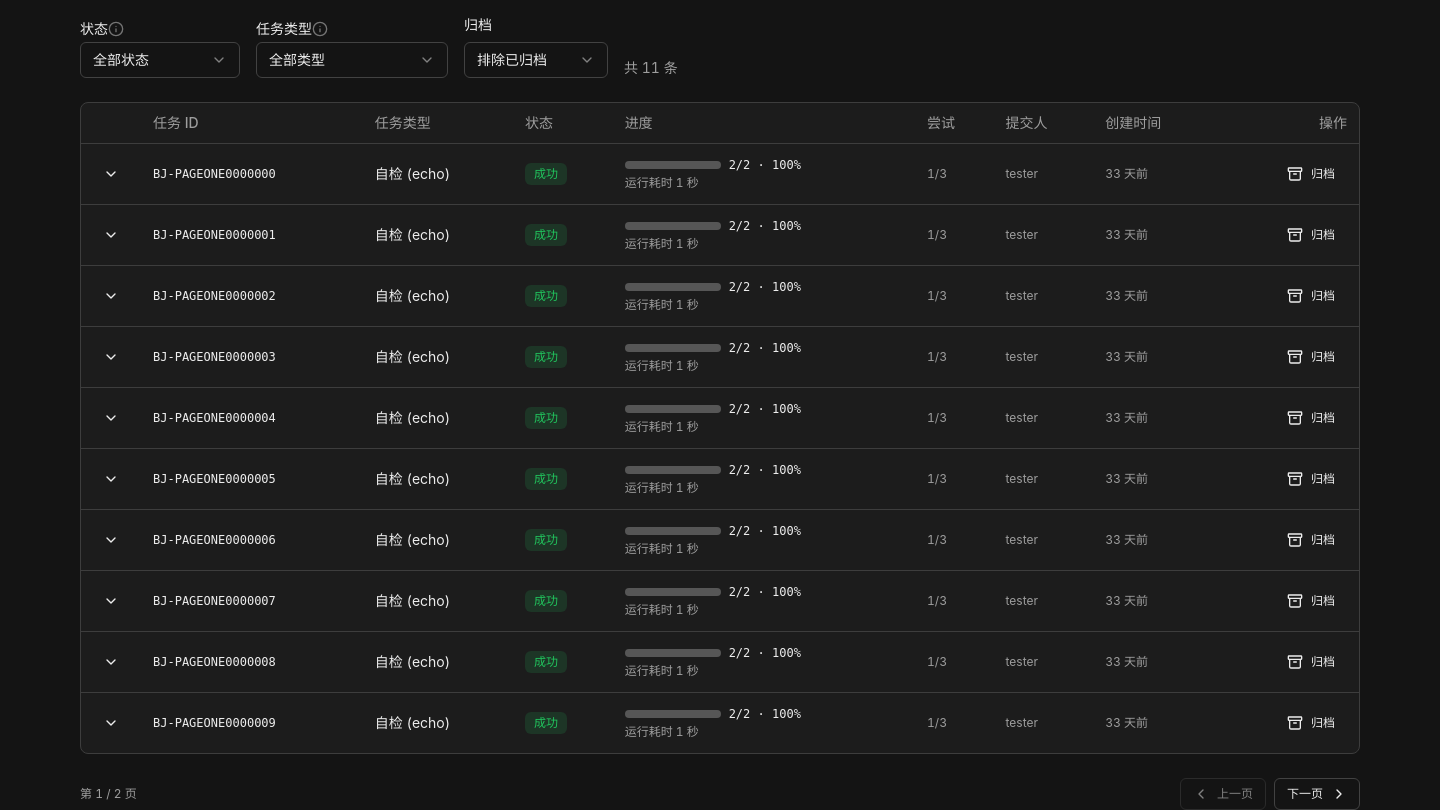
Test case: 任务中心页 › 翻页写入 URL 页码并按 offset 取数,总数经 X-Total-Count 透出(issue #373)
(page scrolled)
expect the text "BJ-PAGEONE0000000" is shown: met, box x1=141 y1=143 x2=363 y2=204
expect the text "共 11 条" is shown: met, box x1=624 y1=58 x2=678 y2=78
Click the button "下一页" at coordinates (1317, 794), box x1=1274 y1=778 x2=1360 y2=809
(page scrolled)
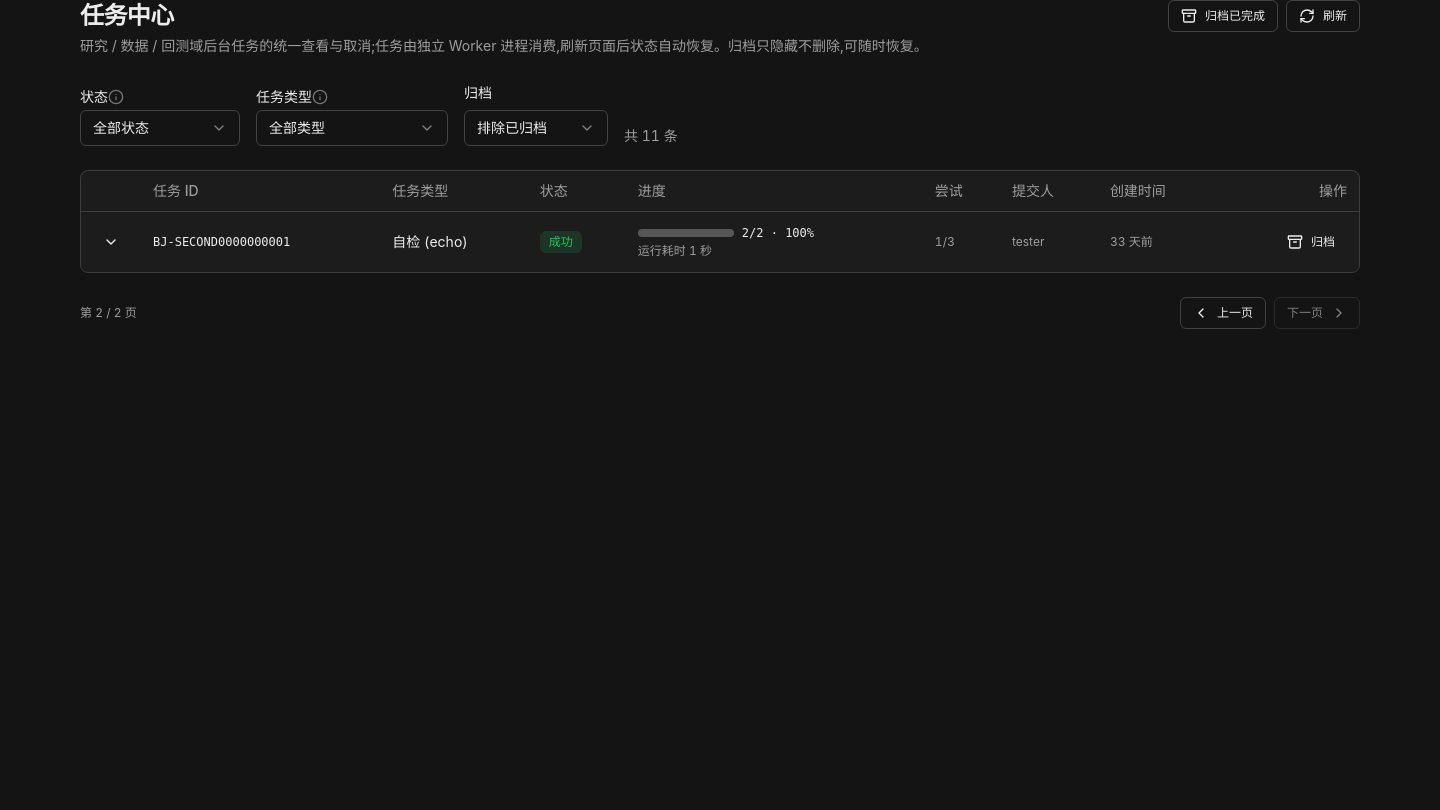
expect the text "BJ-SECOND0000000001" is shown: met, box x1=141 y1=211 x2=380 y2=272
